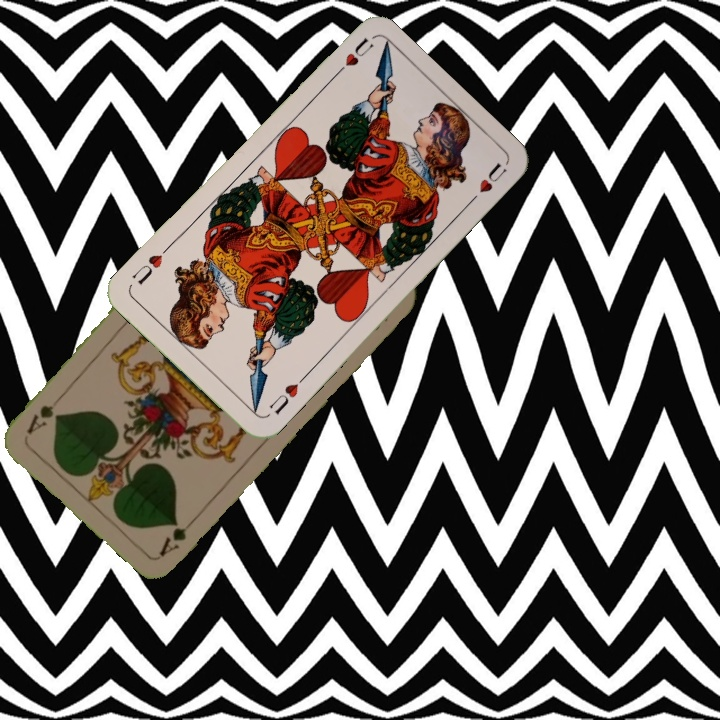GA: (155, 511, 201, 559)
HU: (328, 33, 377, 81), (264, 372, 308, 418)
